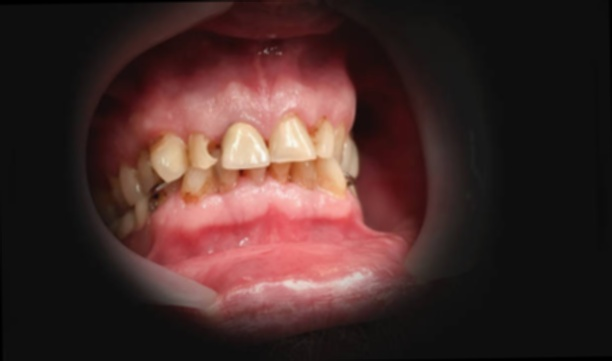Caries: (199, 126, 232, 162), (336, 166, 356, 199), (148, 186, 162, 217)
